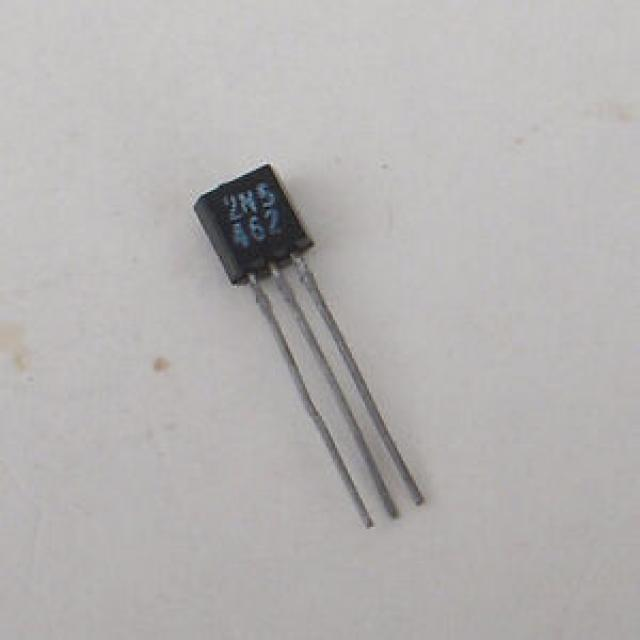Transistor: (167, 141, 457, 551)
